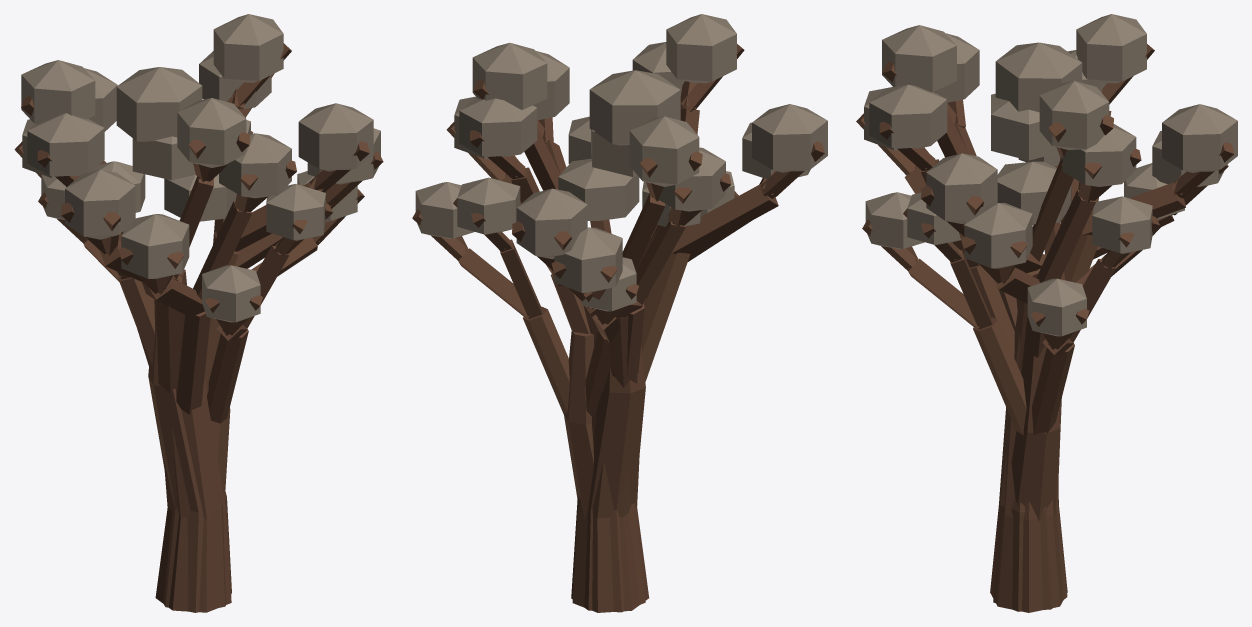
Rendered from tree_oak_winter.glb.
3 views of the same model, side by side, from view 1: azimuth 30°, elevation 25°; view 2: azimuth 150°, elevation 25°; view 3: azimuth 270°, elevation 25° (orthographic).
Visible parts, largest first — view 1: Oak_stout_trunk, Oak_stout_trunk.002, Oak_bare_top_twigs_canopy.002, Oak_bare_twigs_canopy.012, Oak_bare_twigs_canopy.013, Oak_bare_twigs_canopy.003, Oak_bare_twigs_canopy.016, Oak_bare_twigs_canopy.017, Oak_bare_twigs_canopy.015, Oak_bare_twigs_canopy.004, Oak_bare_twigs_canopy.005, Oak_bare_twigs_canopy.011 (+25 smaller); view 2: Oak_stout_trunk.002, Oak_stout_trunk, Oak_bare_top_twigs_canopy.002, Oak_bare_twigs_canopy.016, Oak_bare_twigs_canopy.017, Oak_bare_twigs_canopy.013, Oak_bare_twigs_canopy.015, Oak_bare_twigs_canopy.001, Oak_stout_trunk.001, Oak_bare_twigs_canopy.014, Oak_bare_top_twigs_canopy.001, Oak_bare_twigs_canopy.002 (+24 smaller); view 3: Oak_stout_trunk, Oak_stout_trunk.001, Oak_bare_top_twigs_canopy.002, Oak_bare_twigs_canopy.014, Oak_bare_twigs_canopy.005, Oak_bare_twigs_canopy.015, Oak_bare_twigs_canopy.017, Oak_bare_twigs_canopy.013, Oak_bare_twigs_canopy.012, Oak_bare_twigs_canopy, Oak_stout_trunk.002, Oak_bare_twigs_canopy.007 (+25 smaller).
Part boxes in pixels (bbox=[...]): Oak_stout_trunk: bbox=[155, 377, 231, 612]; Oak_stout_trunk.002: bbox=[148, 269, 231, 612]; Oak_bare_top_twigs_canopy.002: bbox=[116, 67, 202, 141]; Oak_bare_twigs_canopy.012: bbox=[298, 103, 373, 171]; Oak_bare_twigs_canopy.013: bbox=[213, 14, 283, 82]; Oak_bare_twigs_canopy.003: bbox=[27, 113, 104, 176]; Oak_bare_twigs_canopy.016: bbox=[65, 169, 135, 239]; Oak_bare_twigs_canopy.017: bbox=[177, 98, 246, 167]; Oak_bare_twigs_canopy.015: bbox=[21, 60, 95, 124]; Oak_bare_twigs_canopy.004: bbox=[121, 214, 189, 278]; Oak_bare_twigs_canopy.005: bbox=[219, 133, 291, 198]; Oak_bare_twigs_canopy.011: bbox=[266, 184, 325, 240]; Oak_stout_trunk.002: bbox=[571, 345, 645, 612]; Oak_stout_trunk: bbox=[572, 408, 649, 612]; Oak_bare_top_twigs_canopy.002: bbox=[589, 70, 680, 145]; Oak_bare_twigs_canopy.016: bbox=[752, 104, 827, 172]; Oak_bare_twigs_canopy.017: bbox=[666, 14, 736, 83]; Oak_bare_twigs_canopy.013: bbox=[472, 42, 547, 109]; Oak_bare_twigs_canopy.015: bbox=[629, 116, 699, 186]; Oak_bare_twigs_canopy.001: bbox=[459, 97, 537, 156]; Oak_stout_trunk.001: bbox=[564, 330, 594, 518]; Oak_bare_twigs_canopy.014: bbox=[516, 188, 587, 259]; Oak_bare_top_twigs_canopy.001: bbox=[558, 158, 639, 220]; Oak_bare_twigs_canopy.002: bbox=[554, 227, 622, 292]; Oak_stout_trunk: bbox=[990, 313, 1067, 612]; Oak_stout_trunk.001: bbox=[1011, 345, 1060, 521]; Oak_bare_top_twigs_canopy.002: bbox=[995, 42, 1082, 112]; Oak_bare_twigs_canopy.014: bbox=[1162, 104, 1237, 172]; Oak_bare_twigs_canopy.005: bbox=[869, 84, 947, 148]; Oak_bare_twigs_canopy.015: bbox=[1076, 14, 1146, 83]; Oak_bare_twigs_canopy.017: bbox=[882, 25, 956, 92]; Oak_bare_twigs_canopy.013: bbox=[1039, 81, 1109, 149]; Oak_bare_twigs_canopy.012: bbox=[926, 153, 997, 223]; Oak_bare_twigs_canopy: bbox=[964, 203, 1032, 268]; Oak_stout_trunk.002: bbox=[993, 254, 1067, 611]; Oak_bare_twigs_canopy.007: bbox=[1092, 196, 1152, 253].
Bounding box in the file's own units: 2.25 × 3.37 × 2.11.
